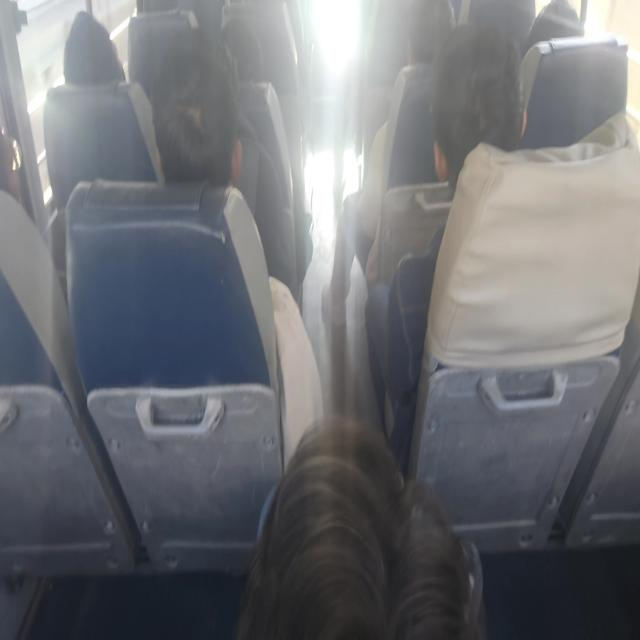person: (244, 409, 494, 640), (441, 30, 525, 200), (155, 44, 247, 181), (54, 6, 128, 94), (205, 21, 269, 88), (520, 0, 592, 55), (405, 0, 453, 75), (0, 111, 33, 209)
